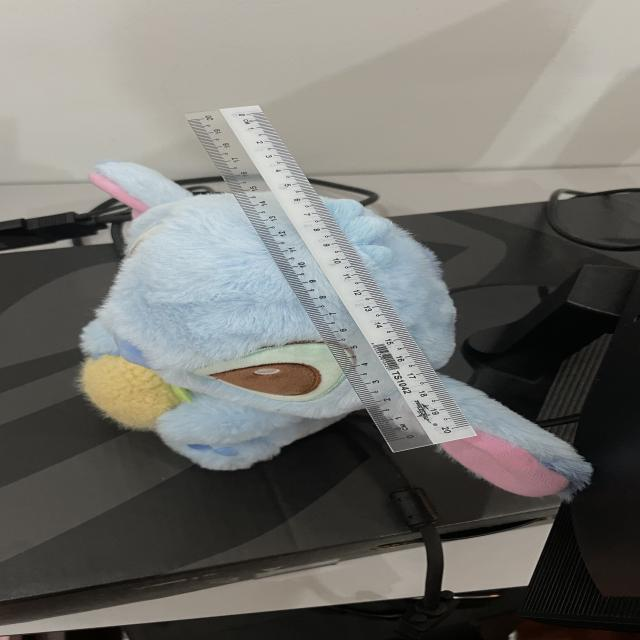ruler: (185, 106, 475, 452)
